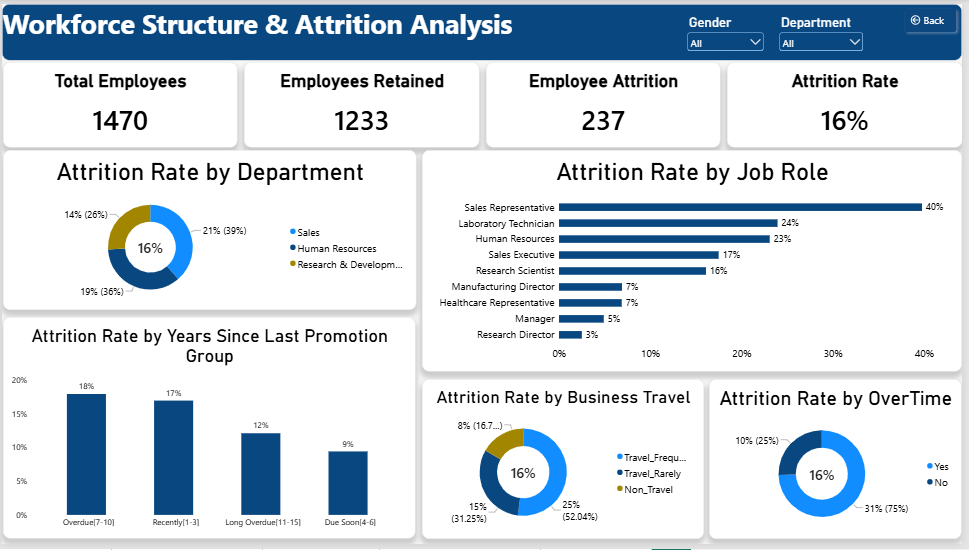

This screenshot's page, from the dashboard's own definition file:
{"tool":"powerbi","page":{"name":"Workforce Structure","canvas":[1921,1080],"ordinal":1},"visuals":[{"type":"textbox","box":[0,0,1920.2,113],"z":0},{"type":"card","title":"Total Employees","fields":{"Values":["CountNonNull(IBM_HR_Employee_Attrition.Employee Number)"]},"box":[2.2,116.6,468.7,170.6],"z":1000},{"type":"card","title":"Employees Retained","fields":{"Values":["IBM_HR_Employee_Attrition.Employees Retained"]},"box":[483.8,116.6,470.9,170.6],"z":2000},{"type":"card","title":"Employee Attrition","fields":{"Values":["Sum(IBM_HR_Employee_Attrition.Attrition Count)"]},"box":[967.7,116.6,468.7,170.6],"z":3000},{"type":"card","title":"Attrition Rate","fields":{"Values":["IBM_HR_Employee_Attrition.Attrition Rate"]},"box":[1449.4,116.6,470.9,170.6],"z":4000},{"type":"donutChart","title":"Attrition Rate by Department","fields":{"Category":["IBM_HR_Employee_Attrition.Department"],"Y":["IBM_HR_Employee_Attrition.Attrition Rate"]},"box":[2.2,291.6,827.3,319.7],"z":5000},{"type":"clusteredBarChart","title":"Attrition Rate by Job Role","fields":{"Category":["IBM_HR_Employee_Attrition.Job Role"],"Y":["IBM_HR_Employee_Attrition.Attrition Rate"]},"box":[840.2,291.6,1080,442.8],"z":6000},{"type":"donutChart","title":"Attrition Rate by OverTime","fields":{"Category":["IBM_HR_Employee_Attrition.OverTime"],"Y":["IBM_HR_Employee_Attrition.Attrition Rate"]},"box":[1414.8,749.5,505.4,319.7],"z":7000},{"type":"clusteredColumnChart","title":"Attrition Rate by Years Since Last Promotion Group","fields":{"Category":["IBM_HR_Employee_Attrition.Years Since Last Promotion Group"],"Y":["IBM_HR_Employee_Attrition.Attrition Rate"]},"box":[2.2,626.4,825,442.8],"z":8000},{"type":"slicer","fields":{"Values":["IBM_HR_Employee_Attrition.Gender"]},"box":[1365.1,19.4,162,75.6],"z":9000},{"type":"slicer","fields":{"Values":["IBM_HR_Employee_Attrition.Department"]},"box":[1550.9,19.4,177.1,75.6],"z":10000},{"type":"donutChart","fields":{"Category":["IBM_HR_Employee_Attrition.Business Travel"],"Y":["IBM_HR_Employee_Attrition.Attrition Rate"]},"box":[840.2,749.5,564,319.7],"z":11000},{"type":"actionButton","box":[1795,0,122.5,65],"z":12000}]}

Visuals, with their boxes in screenshot pixels (x1, y1, x2, y2), scaled from the page's 1921x1080 canvas onto the 969x550 screenshot:
textbox: [left=0, top=0, right=968, bottom=58]
"Total Employees" card: [left=1, top=59, right=238, bottom=146]
"Employees Retained" card: [left=244, top=59, right=482, bottom=146]
"Employee Attrition" card: [left=488, top=59, right=725, bottom=146]
"Attrition Rate" card: [left=731, top=59, right=968, bottom=146]
"Attrition Rate by Department" donutChart: [left=1, top=149, right=418, bottom=311]
"Attrition Rate by Job Role" clusteredBarChart: [left=424, top=149, right=968, bottom=374]
"Attrition Rate by OverTime" donutChart: [left=714, top=382, right=968, bottom=545]
"Attrition Rate by Years Since Last Promotion Group" clusteredColumnChart: [left=1, top=319, right=417, bottom=545]
slicer - IBM_HR_Employee_Attrition.Gender: [left=689, top=10, right=770, bottom=48]
slicer - IBM_HR_Employee_Attrition.Department: [left=782, top=10, right=872, bottom=48]
donutChart - IBM_HR_Employee_Attrition.Business Travel x IBM_HR_Employee_Attrition.Attrition Rate: [left=424, top=382, right=708, bottom=545]
actionButton: [left=905, top=0, right=967, bottom=33]
